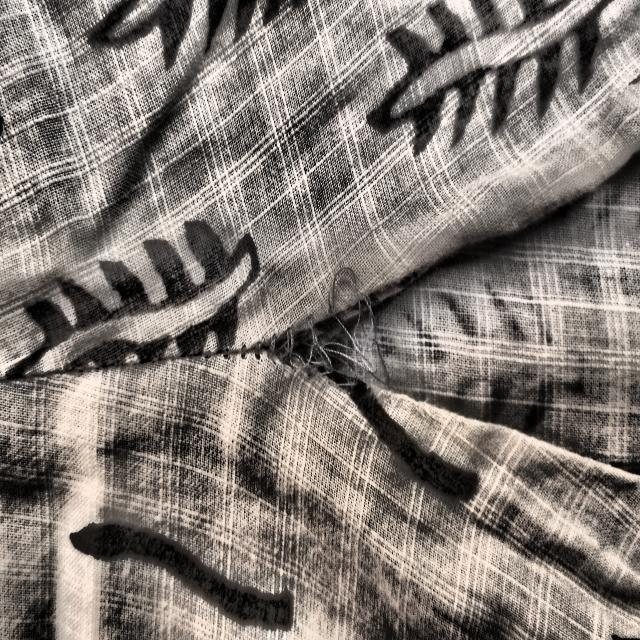gray stitch: (223, 242, 440, 423)
